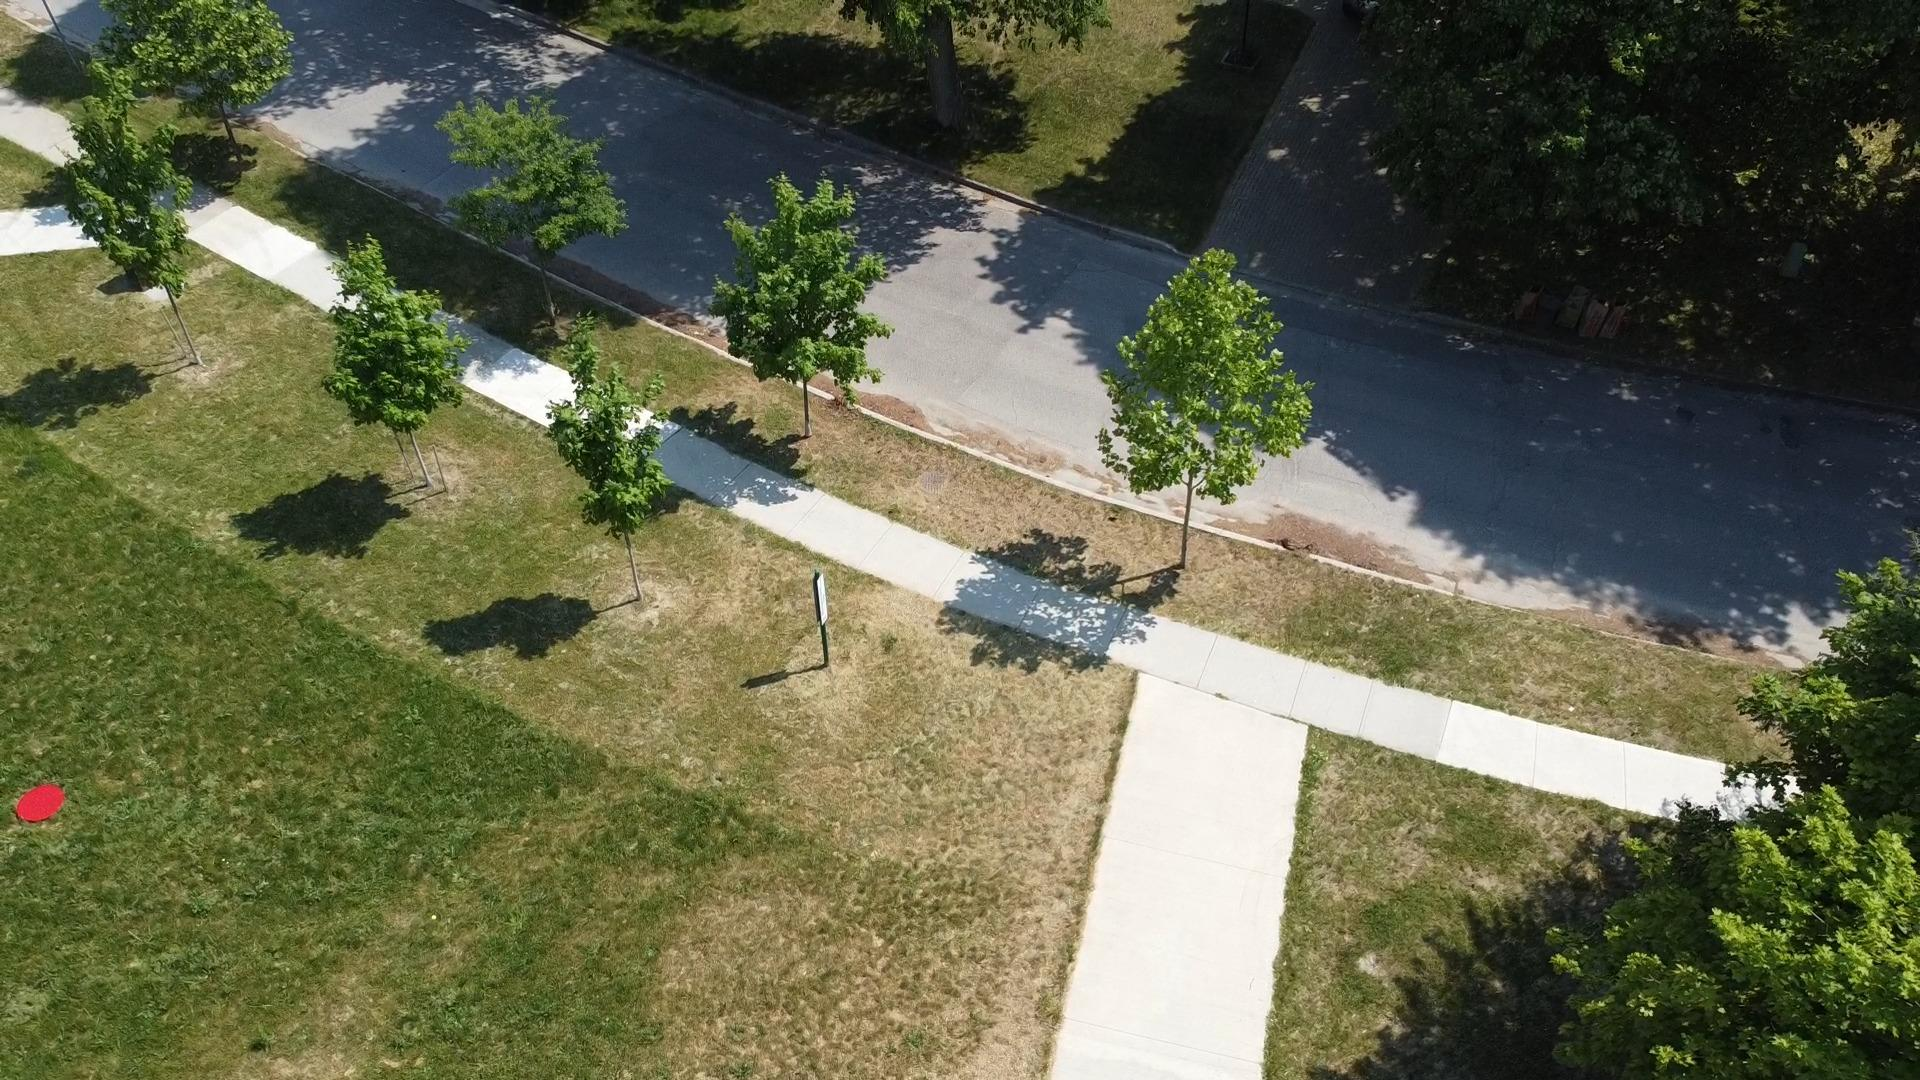Red: (16, 782, 66, 823)
